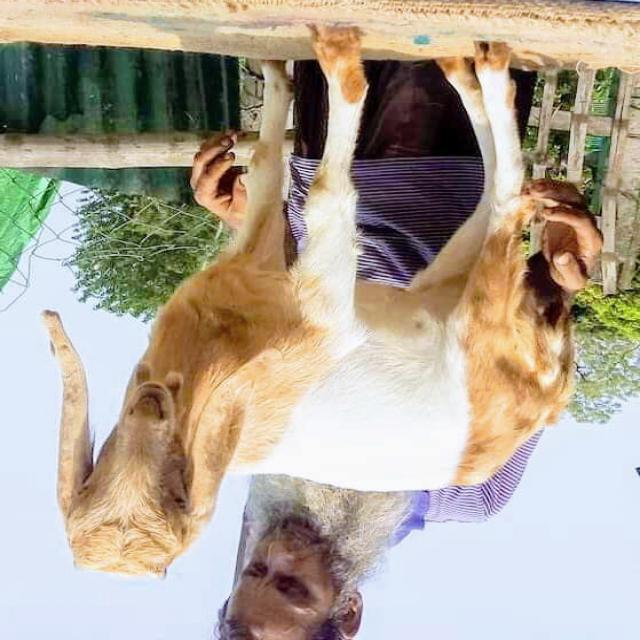Goat: (40, 25, 602, 582)
